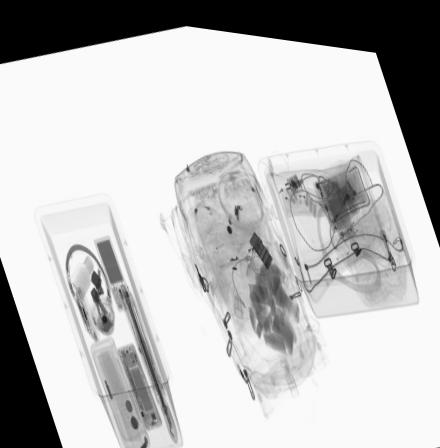Powerbank: (94, 233, 133, 309)
